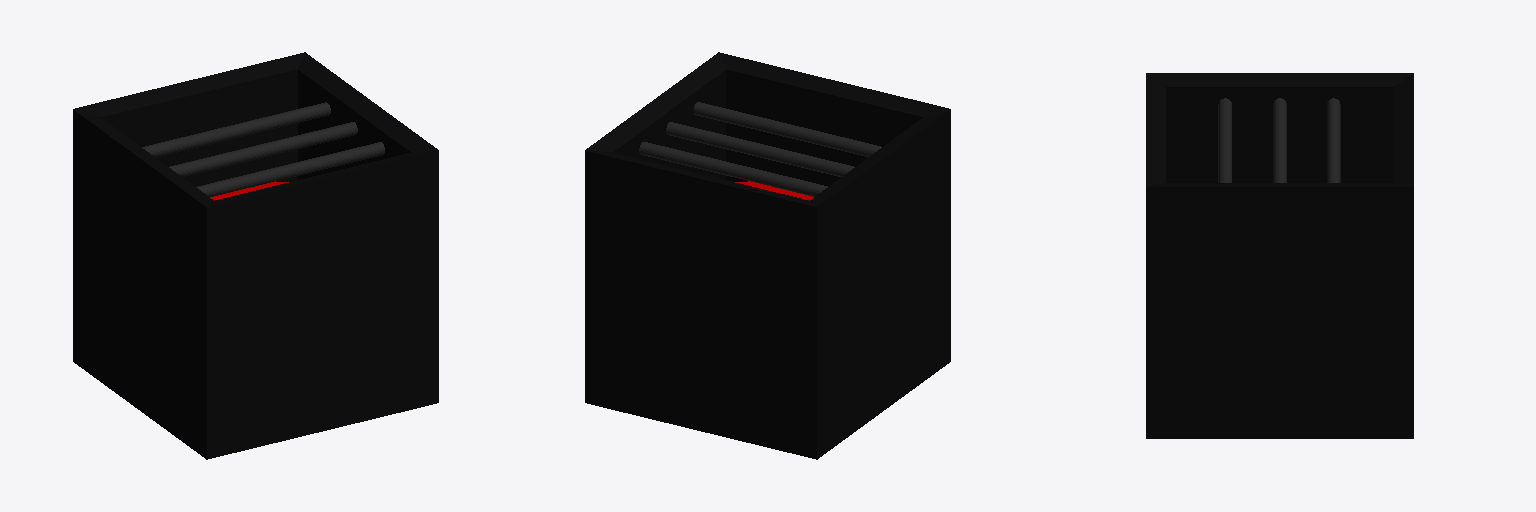
The model's file is Tile5.obj.
3 views of the same model, side by side, from view 1: azimuth 30°, elevation 25°; view 2: azimuth 150°, elevation 25°; view 3: azimuth 270°, elevation 25° (orthographic).
Visible parts, largest first — view 1: Cube.002, Cilindro.007_Cilindro.008, Cilindro.005_Cilindro.006, Cilindro.006_Cilindro.007; view 2: Cube.002, Cilindro.007_Cilindro.008, Cilindro.005_Cilindro.006, Cilindro.006_Cilindro.007; view 3: Cube.002, Cilindro.007_Cilindro.008, Cilindro.006_Cilindro.007, Cilindro.005_Cilindro.006.
Boxes of the visible parts, x1=… form: Cube.002: x1=73, y1=52, x2=438, y2=459; Cilindro.007_Cilindro.008: x1=169, y1=122, x2=357, y2=176; Cilindro.005_Cilindro.006: x1=142, y1=102, x2=330, y2=157; Cilindro.006_Cilindro.007: x1=196, y1=142, x2=384, y2=196; Cube.002: x1=585, y1=52, x2=950, y2=459; Cilindro.007_Cilindro.008: x1=666, y1=122, x2=854, y2=176; Cilindro.005_Cilindro.006: x1=639, y1=142, x2=827, y2=196; Cilindro.006_Cilindro.007: x1=694, y1=102, x2=881, y2=156; Cube.002: x1=1146, y1=73, x2=1413, y2=438; Cilindro.007_Cilindro.008: x1=1273, y1=98, x2=1286, y2=182; Cilindro.006_Cilindro.007: x1=1218, y1=98, x2=1231, y2=182; Cilindro.005_Cilindro.006: x1=1327, y1=98, x2=1340, y2=182.
Bounding box in the file's own units: 2 × 2.07 × 2.